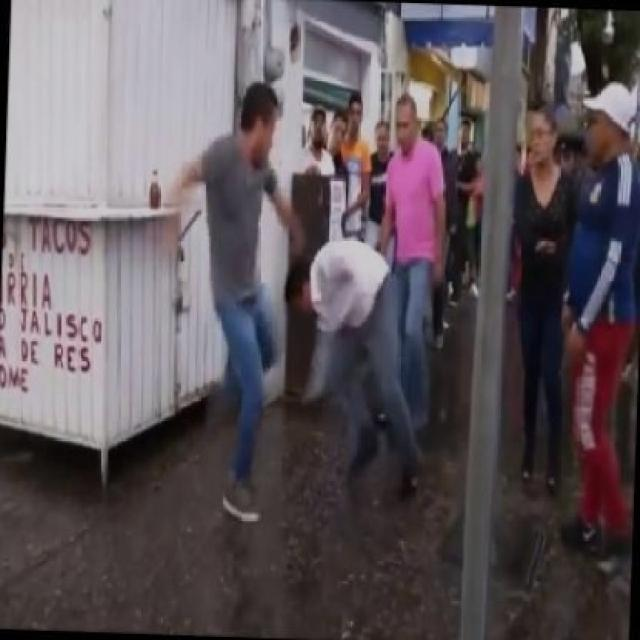fight: (168, 82, 422, 548)
non-fight: (484, 68, 636, 588), (348, 77, 477, 489)
